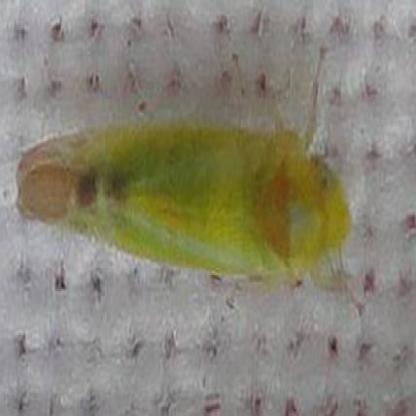green-leafhopper: (12, 126, 354, 281)
